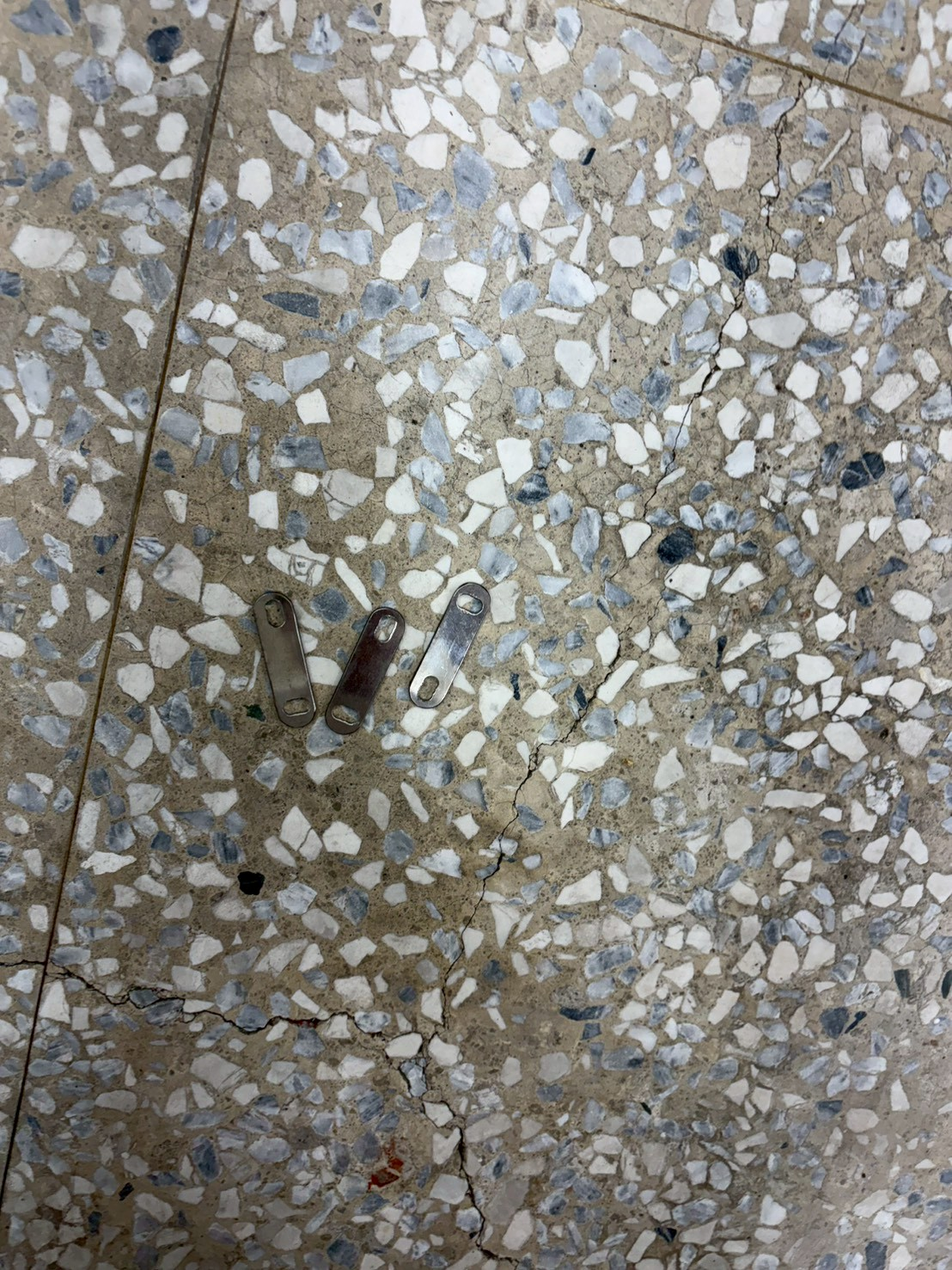Fe: (378, 594, 425, 736), (466, 568, 513, 710), (248, 593, 294, 735)
